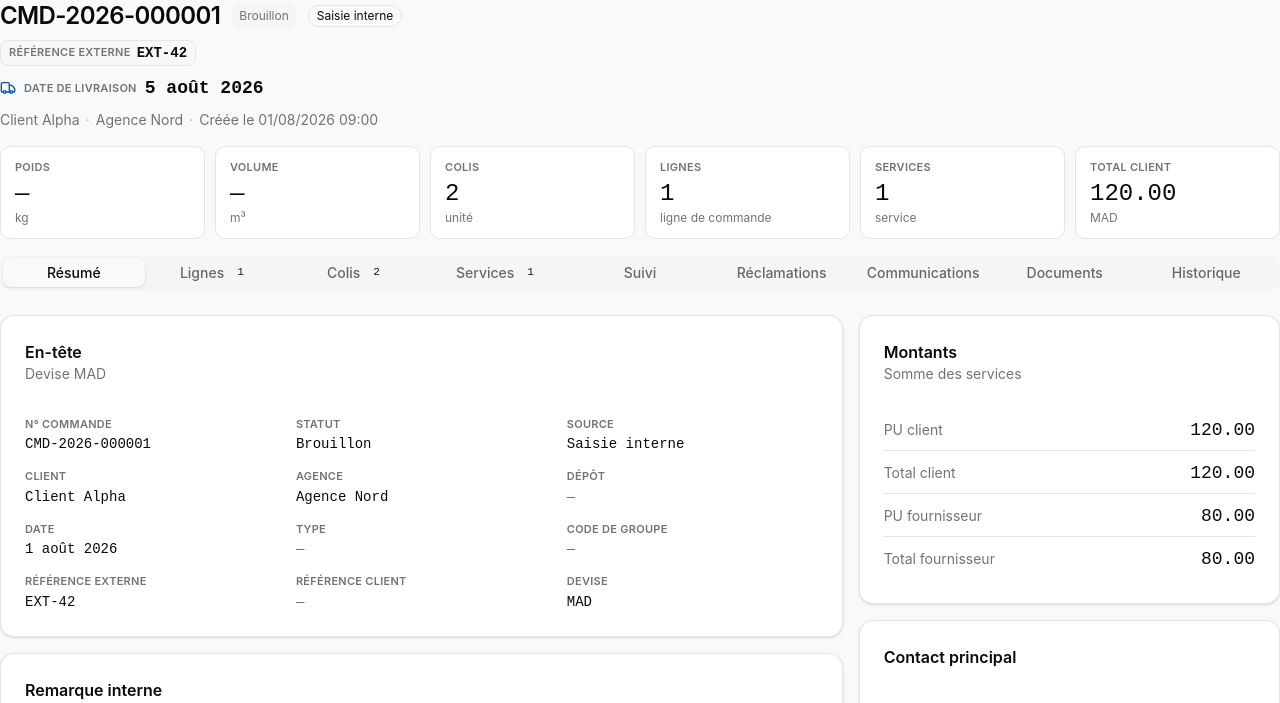
Test: services d’un colis › explique quand tous les services prennent déjà le colis
Click the tab "Colis 2". click: (357, 272)
box: [286, 258, 428, 287]
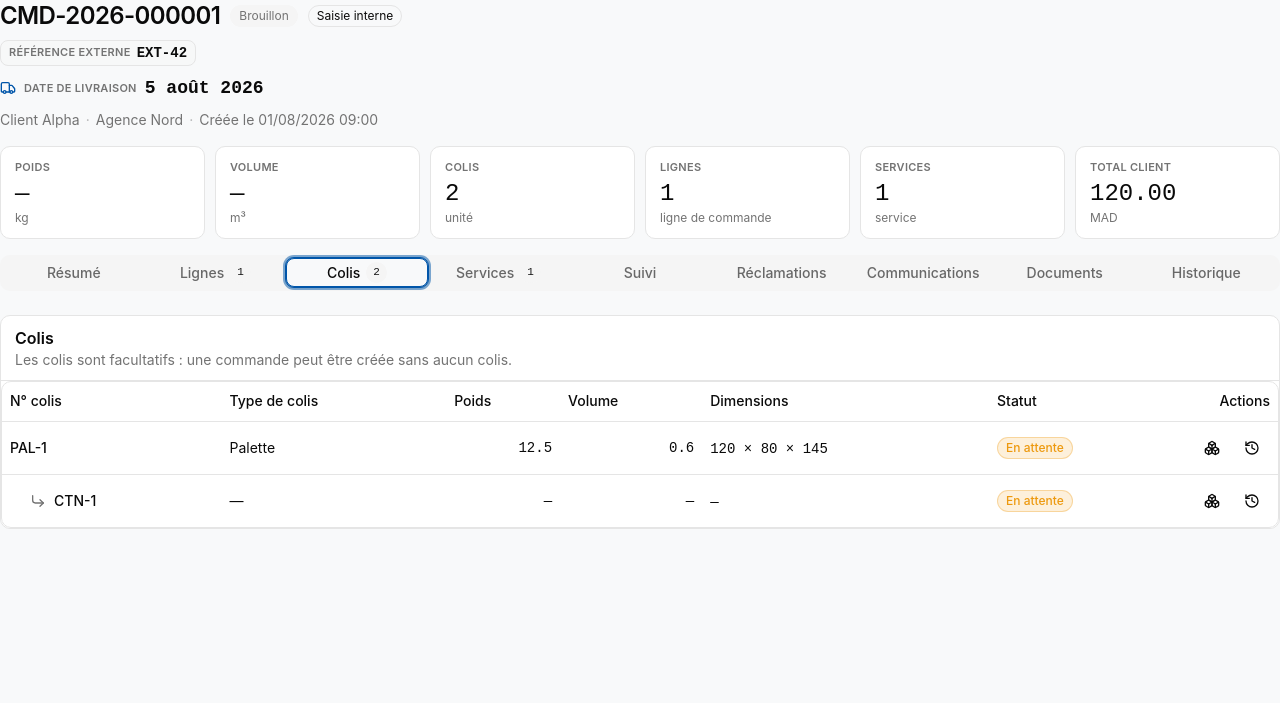
Now the text "PAL-1" is shown, box [10, 439, 47, 456]
Click the button named "Contenu du colis" in the row of "PAL-1". click: (1212, 448)
box: [1194, 430, 1230, 466]
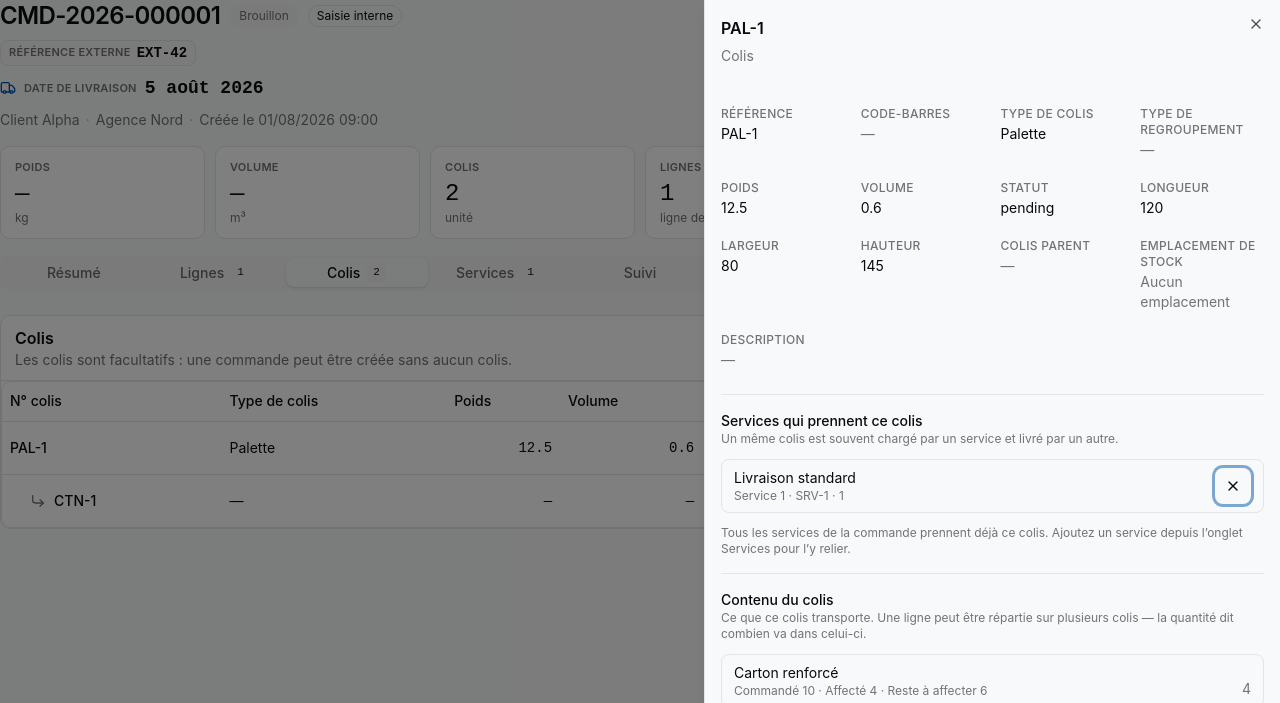
Now the text "Tous les services de la commande prennent déjà" is shown, box [721, 525, 1243, 556]
